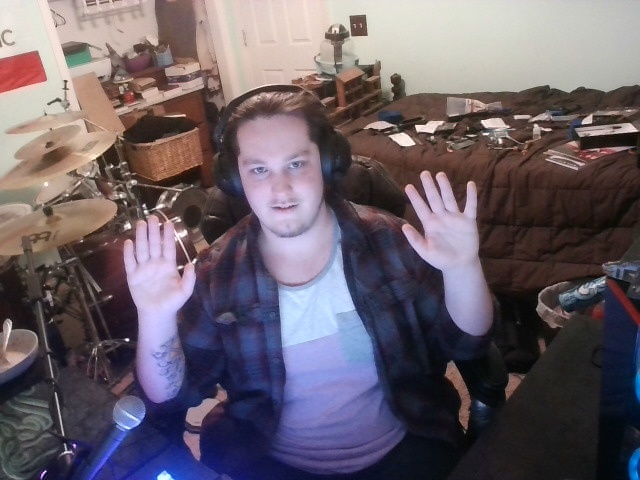great: (109, 167, 497, 325)
